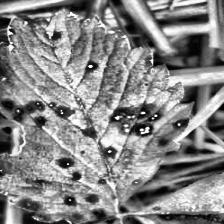Leaf Spot: (0, 5, 195, 224), (134, 131, 224, 224)
